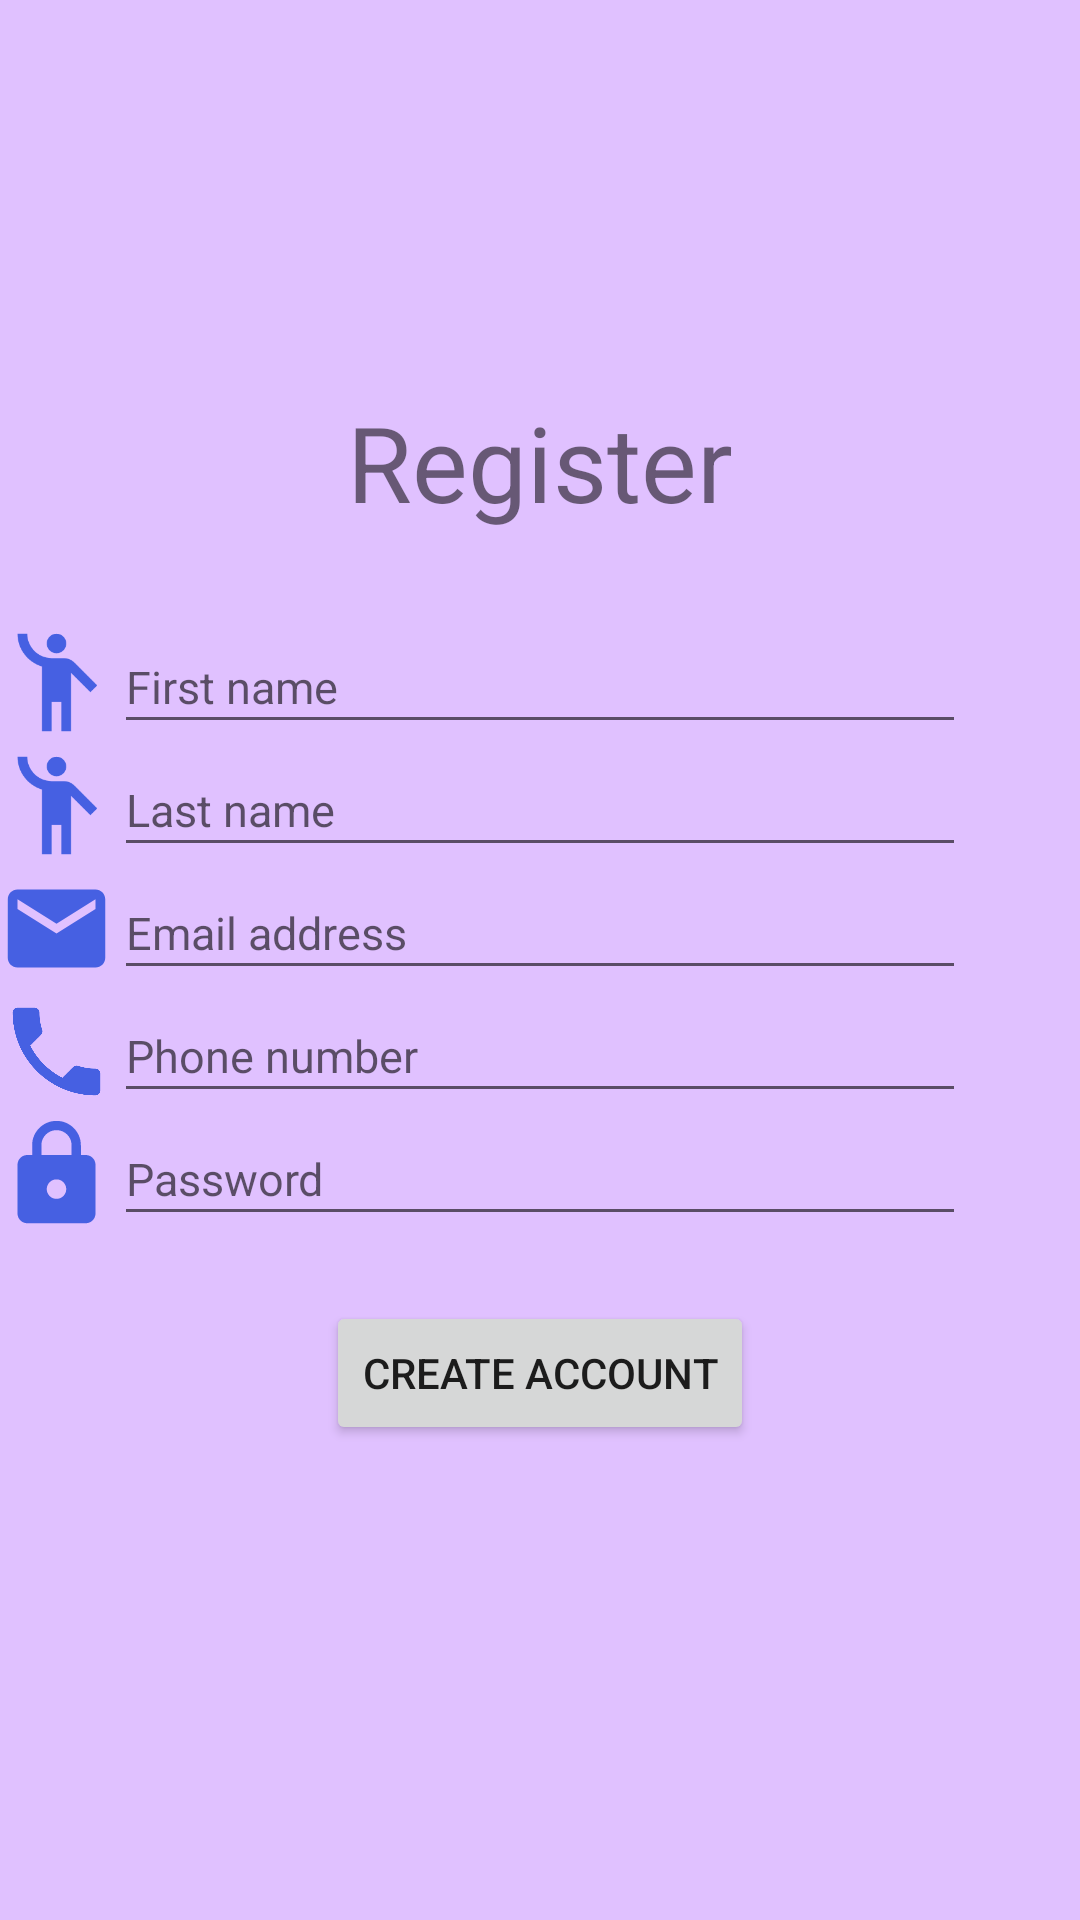

Icon bounding boxes for this 1080 × 1920 phone screenshot, format bbox=[x1, y1, x2, y2]:
emoji people: bbox=[17, 633, 97, 732], bbox=[17, 756, 97, 855]
lock: bbox=[17, 1121, 96, 1224]
